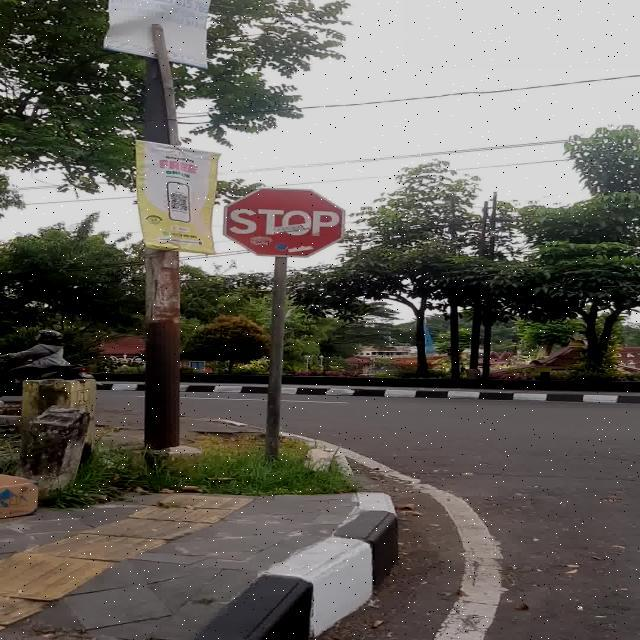Berhenti: (224, 188, 346, 257)
